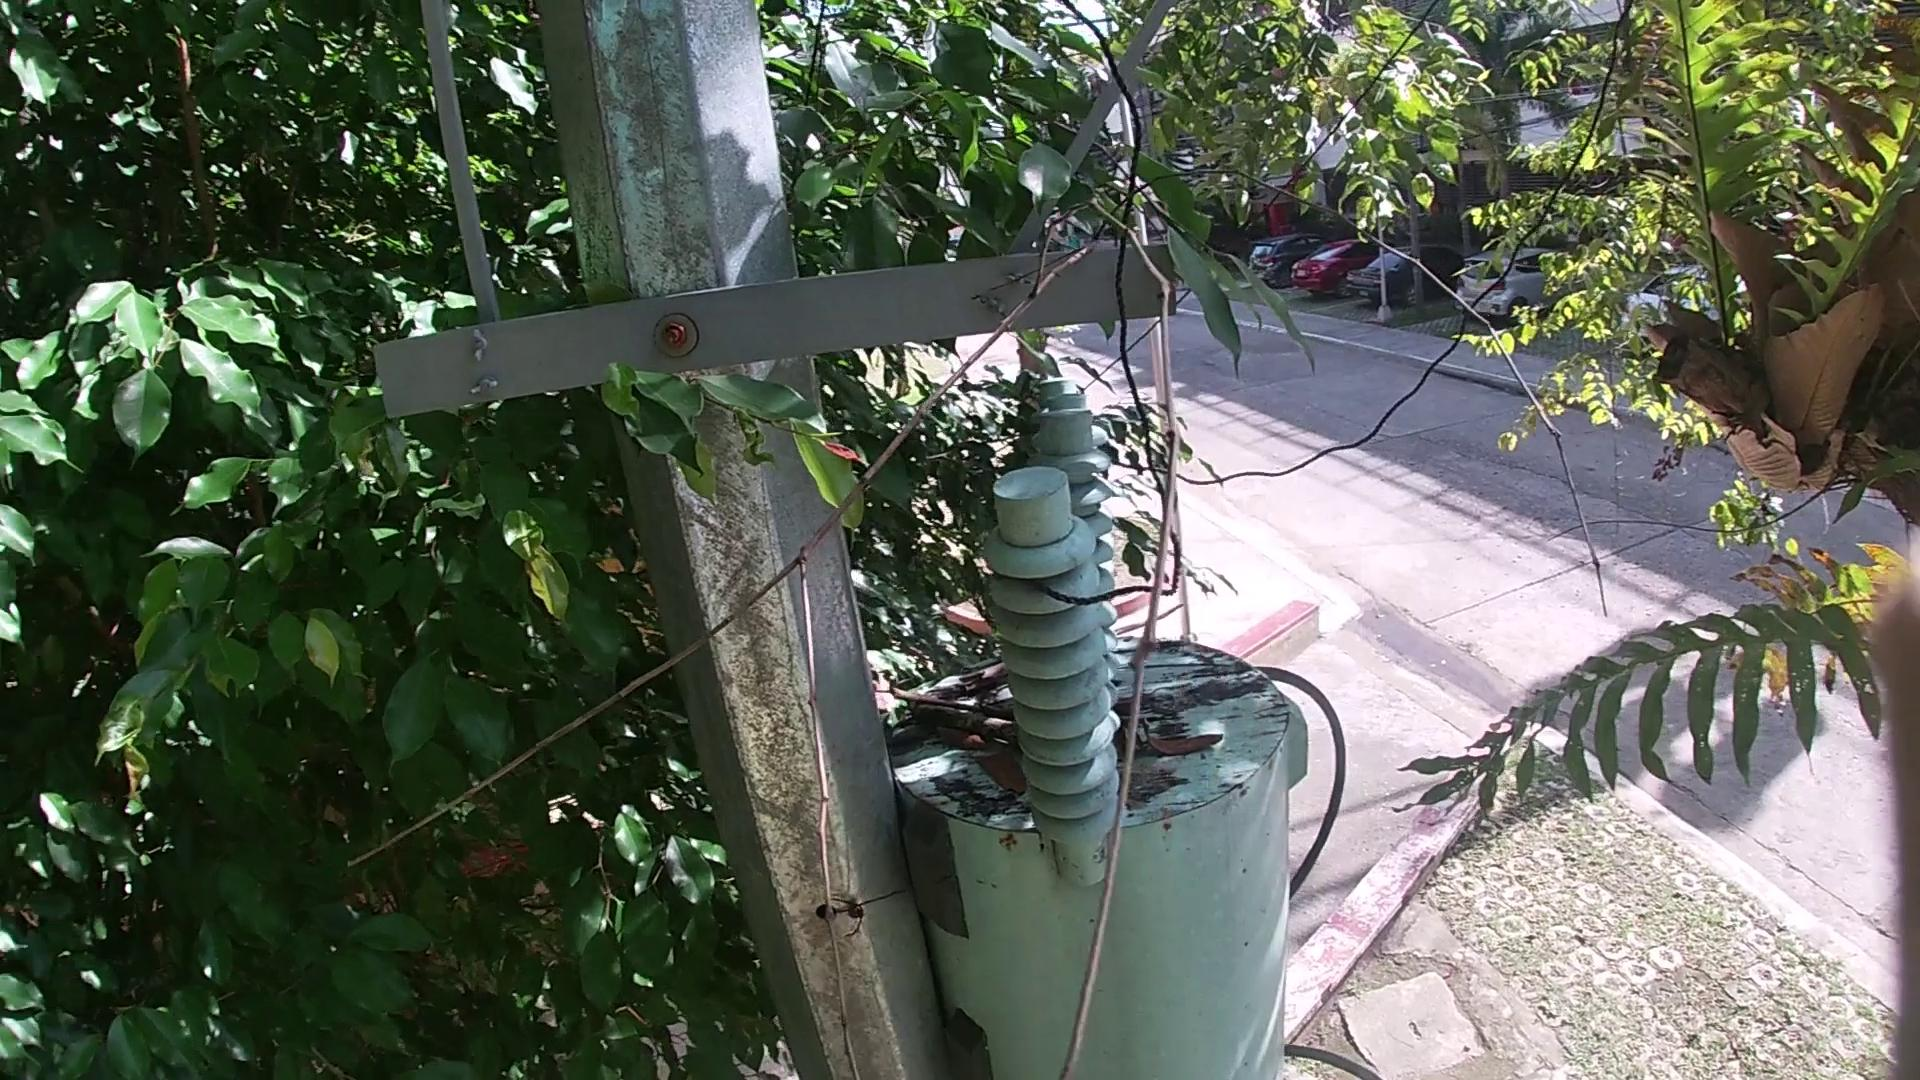leaf: (975, 761, 1033, 804), (923, 733, 1000, 756)
mahogany fruit: (1139, 727, 1234, 762)
tree branch: (63, 167, 1185, 1062), (934, 654, 1043, 704), (887, 684, 1030, 717), (911, 709, 1029, 736)
